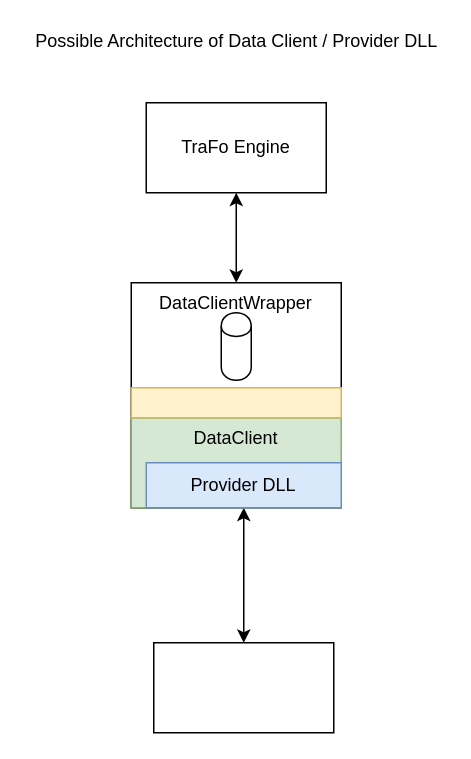
Some shapes in this 471 by 759 pixel diagram are drawn without their labels. Each missing label, with the centre of its shape:
"NC / PLC / ???" belongs at point (243, 687).
"SouthAPI" belongs at point (235, 402).
